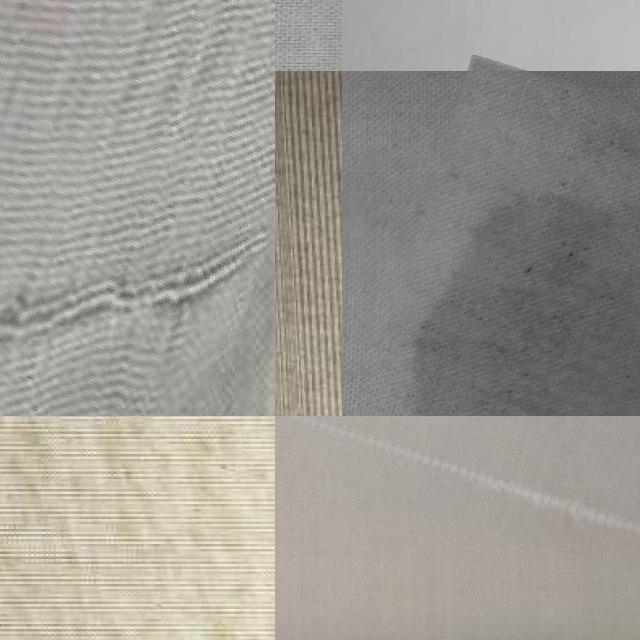Thread_other: (376, 73, 640, 416)
stains: (275, 416, 640, 550)
